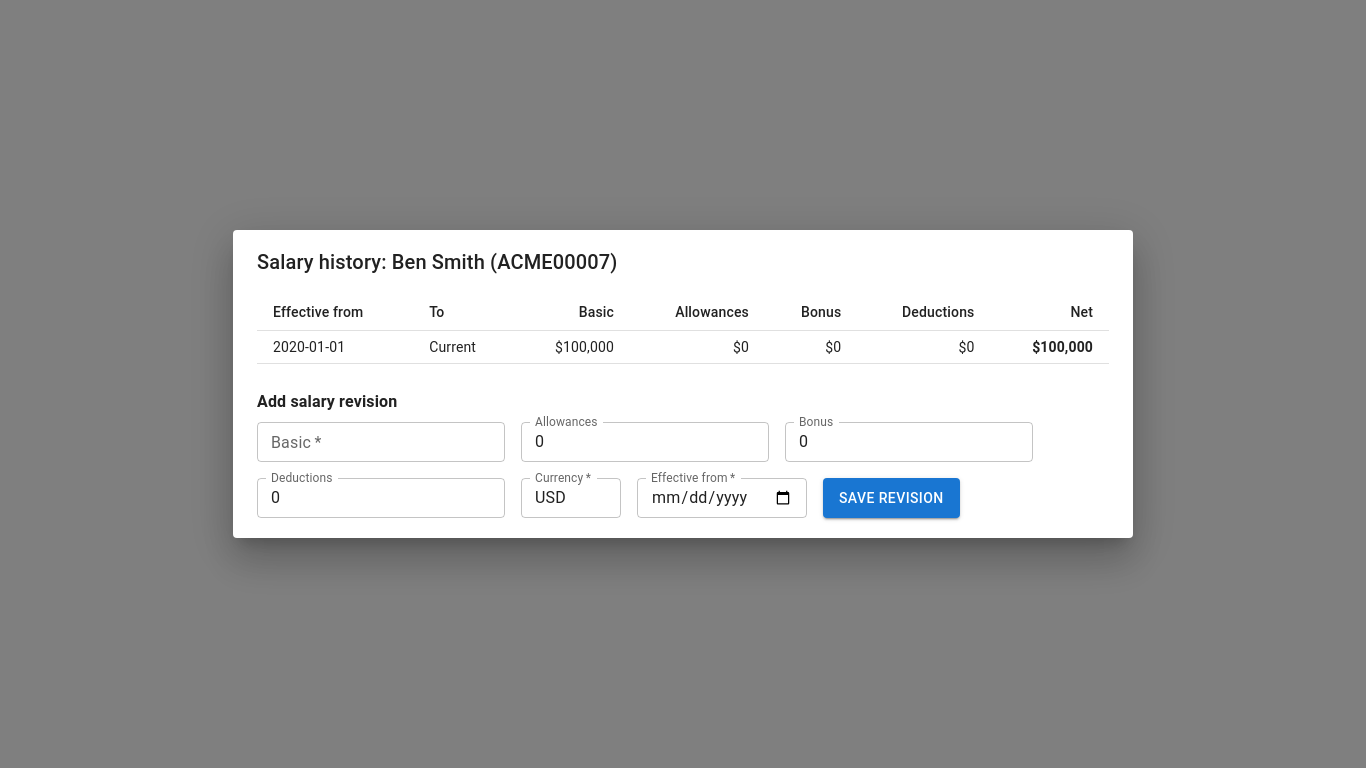
Test: shows the server validation message
Expected: the text "Current" is shown, x1=413 y1=331 x2=514 y2=364
Type "1" into the number field labelled "Basic *" at [381, 442], box x1=257 y1=422 x2=505 y2=462
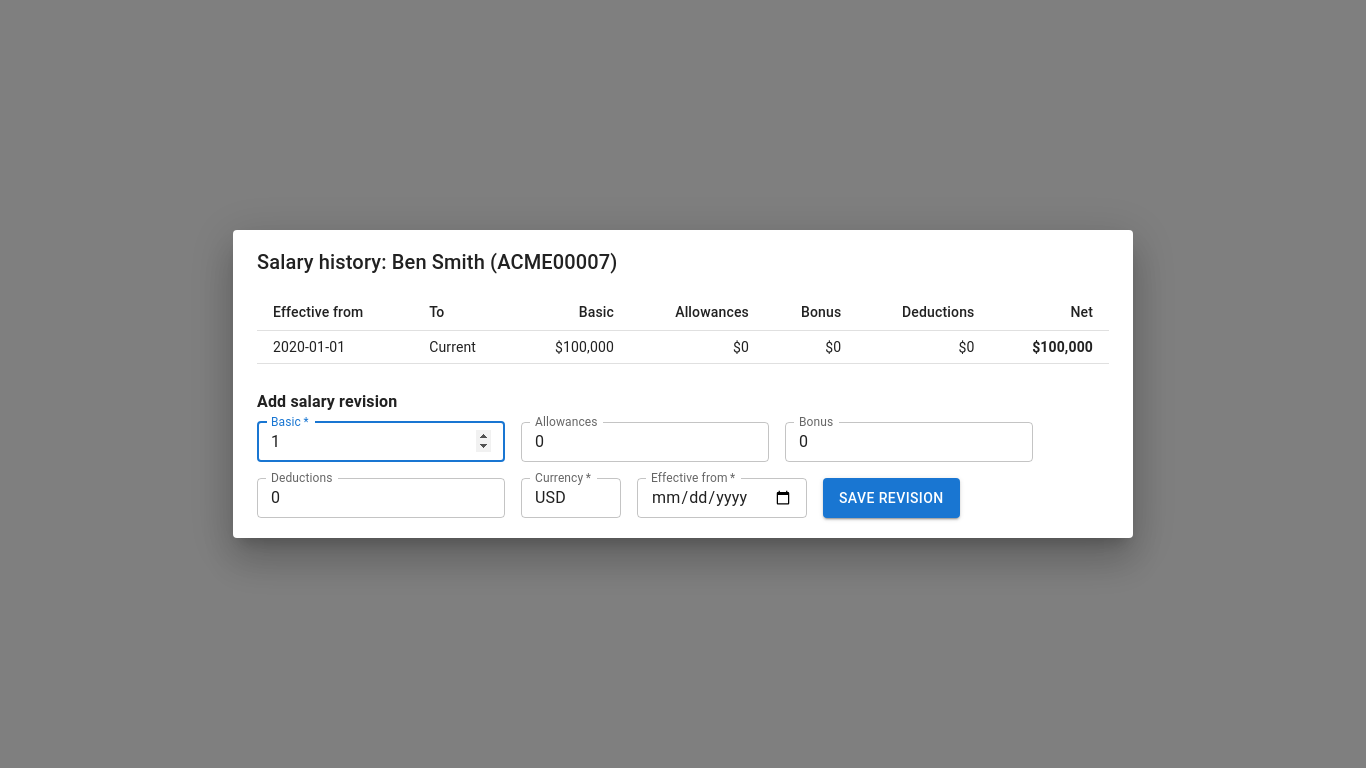
Type "2019-01-01" into the date field labelled "Effective from *" at [722, 498], box x1=637 y1=478 x2=807 y2=518
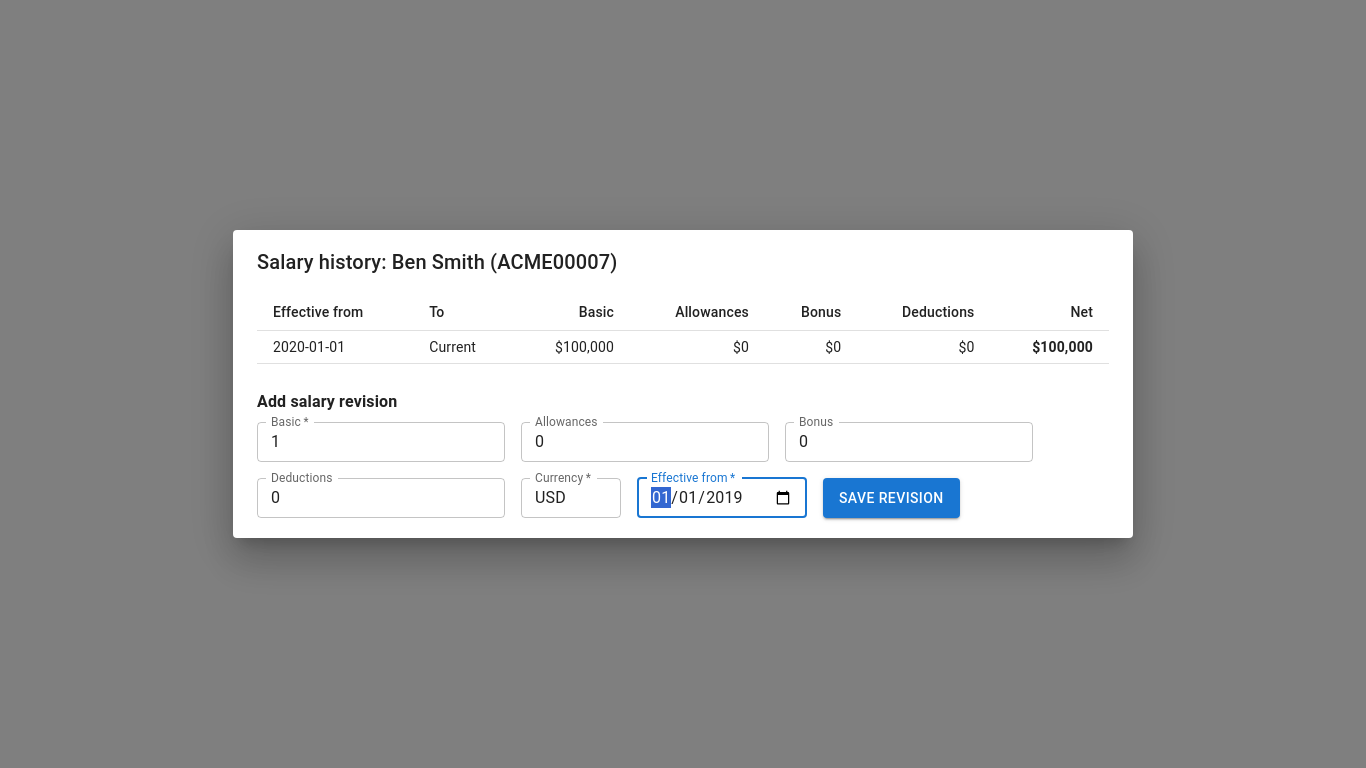
Click the button "Save revision" at [891, 498], box x1=823 y1=478 x2=960 y2=518
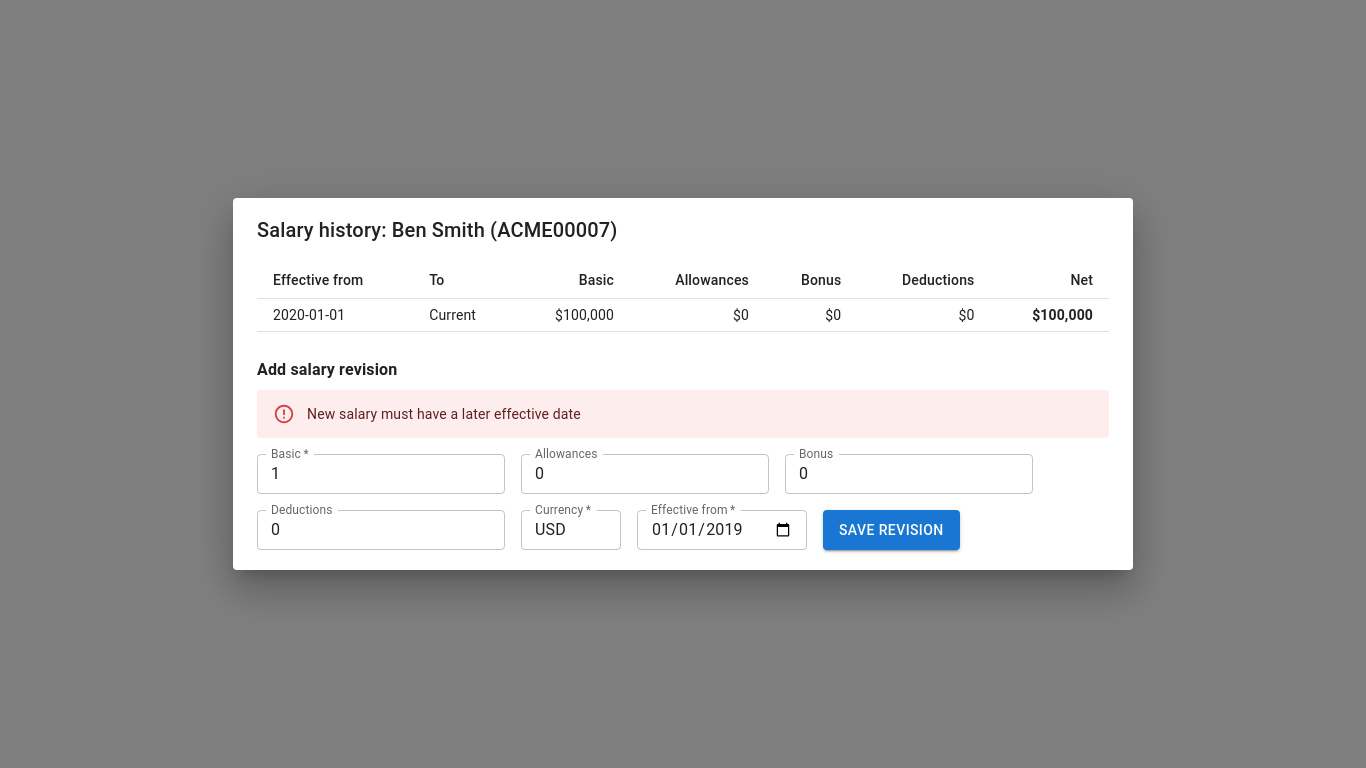
Result: the text "New salary must have a later effective date" is shown at x1=307 y1=406 x2=581 y2=422
